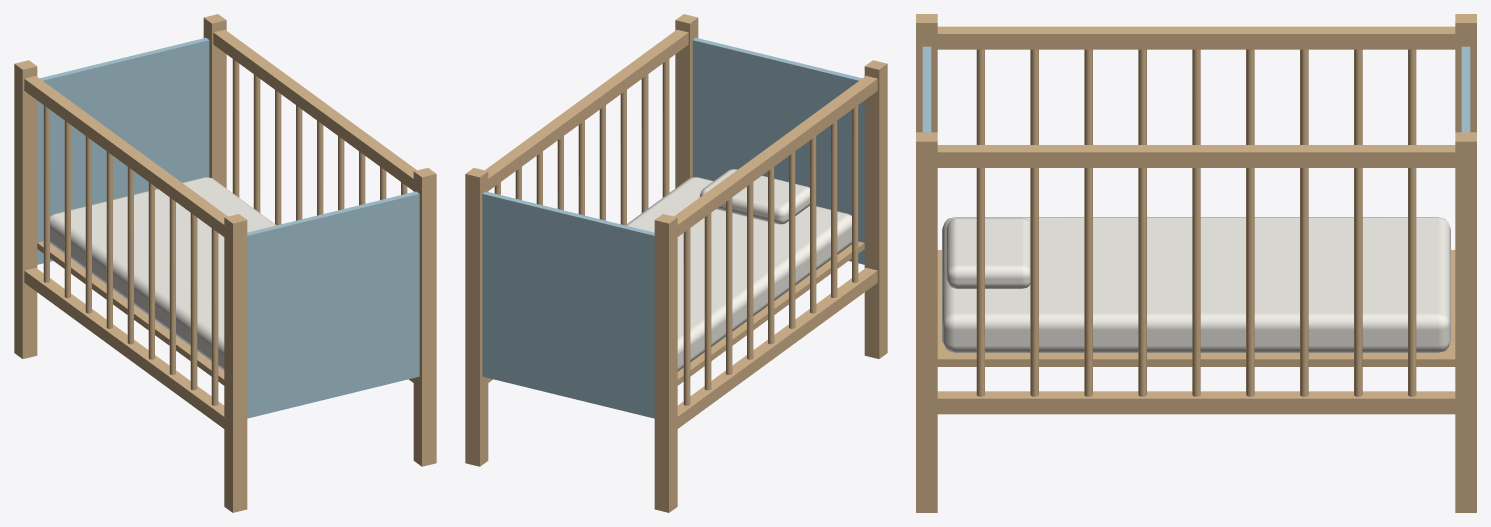
The picture shows the model from 3 angles, left to right: view 1: azimuth 30°, elevation 25°; view 2: azimuth 150°, elevation 25°; view 3: azimuth 270°, elevation 25°; orthographic projection. The views are drawn at different scales.
Visible parts, largest first — view 1: post-1, end-head, mattress; view 2: post-1, end-head, mattress; view 3: post-1, mattress, end-head.
Part boxes in pixels (<box>): post-1: <box>14,14,436,512</box>; end-head: <box>37,37,419,418</box>; mattress: <box>50,177,276,371</box>; post-1: <box>465,14,887,512</box>; end-head: <box>482,37,864,418</box>; mattress: <box>625,169,851,371</box>; post-1: <box>916,14,1476,512</box>; mattress: <box>942,217,1450,352</box>; end-head: <box>922,46,1470,132</box>.
Size of the model in its own units: 0.7 by 0.95 by 1.3.
